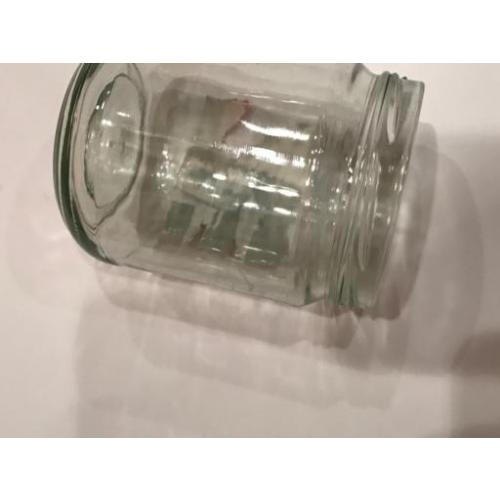glass: (57, 59, 420, 315)
